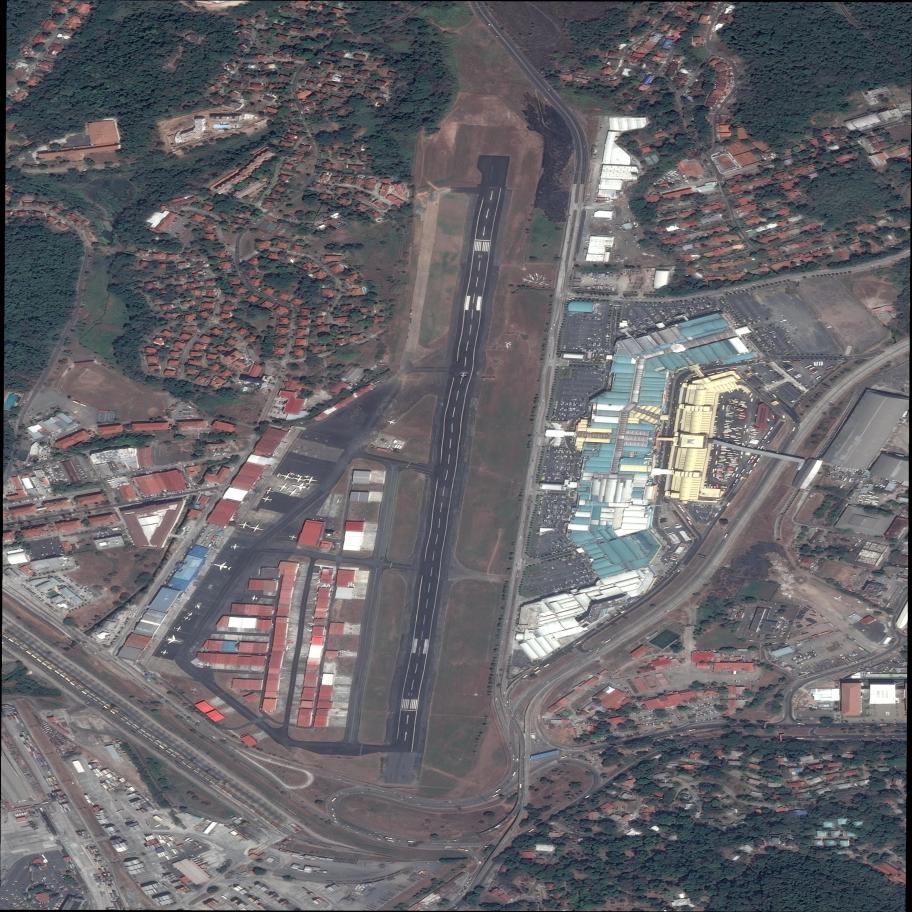large-vehicle: (495, 788, 501, 793), (458, 848, 468, 851), (493, 793, 499, 797), (605, 639, 611, 643), (535, 670, 541, 674), (495, 824, 501, 828), (332, 797, 336, 802), (512, 771, 516, 776), (576, 641, 581, 645), (544, 664, 549, 668), (534, 667, 539, 671), (522, 675, 528, 678), (689, 729, 697, 731), (724, 534, 728, 538), (387, 840, 394, 842), (445, 846, 452, 848), (798, 723, 805, 725), (408, 841, 415, 843), (386, 837, 392, 839), (520, 784, 522, 788), (880, 725, 886, 726), (797, 738, 803, 738)
plane: (245, 521, 267, 536), (211, 559, 234, 573), (284, 485, 304, 500), (290, 480, 313, 493), (164, 633, 185, 647), (275, 480, 293, 494), (278, 470, 297, 482), (258, 494, 276, 505), (302, 475, 319, 486), (292, 474, 308, 484), (383, 417, 399, 426), (263, 485, 276, 496), (171, 623, 185, 633), (237, 521, 251, 530), (286, 624, 296, 634), (503, 339, 515, 347), (185, 610, 195, 619), (230, 544, 242, 551), (195, 660, 206, 667), (305, 627, 316, 634), (159, 649, 170, 656), (275, 470, 283, 479), (525, 273, 535, 280), (250, 595, 259, 602), (283, 645, 292, 652), (288, 470, 297, 477), (315, 579, 324, 586), (289, 534, 298, 541), (351, 593, 360, 599), (203, 662, 213, 667), (194, 604, 202, 610), (182, 615, 190, 621), (315, 583, 321, 591), (317, 564, 325, 570), (504, 343, 512, 349), (521, 277, 529, 283), (526, 279, 534, 285), (533, 272, 540, 278), (311, 596, 319, 601), (350, 584, 357, 589), (336, 675, 344, 679), (338, 649, 346, 653), (344, 650, 352, 654), (533, 281, 539, 286), (337, 655, 344, 659), (539, 280, 546, 284), (336, 498, 341, 503), (536, 276, 541, 281), (333, 708, 341, 711), (348, 582, 354, 586), (460, 374, 468, 377), (544, 282, 550, 286), (542, 277, 546, 280)
